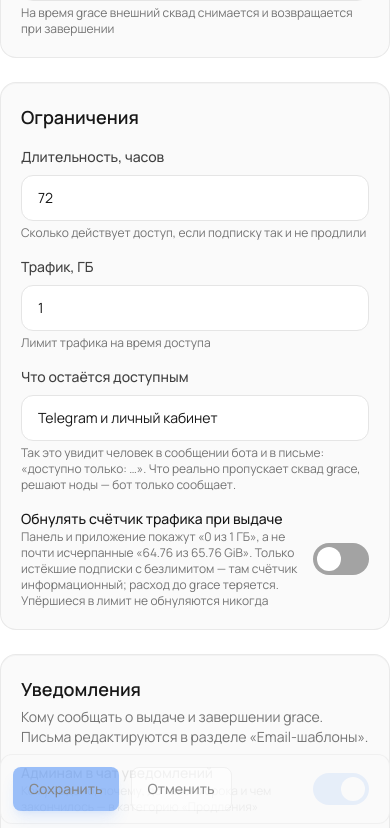
раздел grace-доступа › не сохраняет пустое описание доступных сервисов при уведомлении человека
The width and height of the screenshot is (390, 828).
(page scrolled)
Clear the field labelled "Что остаётся доступным": (195, 418) x1=21 y1=395 x2=369 y2=441
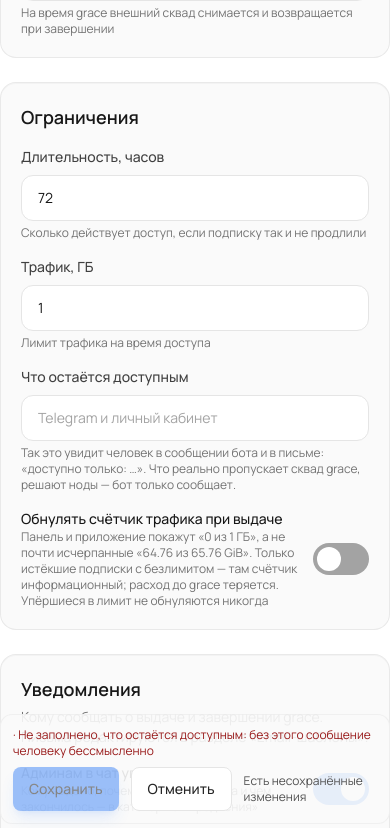
Check: the button "Сохранить" is disabled, box x1=13 y1=767 x2=119 y2=811
Check: the list item "без этого сообщение человеку бессмысленно" is shown, box x1=13 y1=726 x2=371 y2=759
